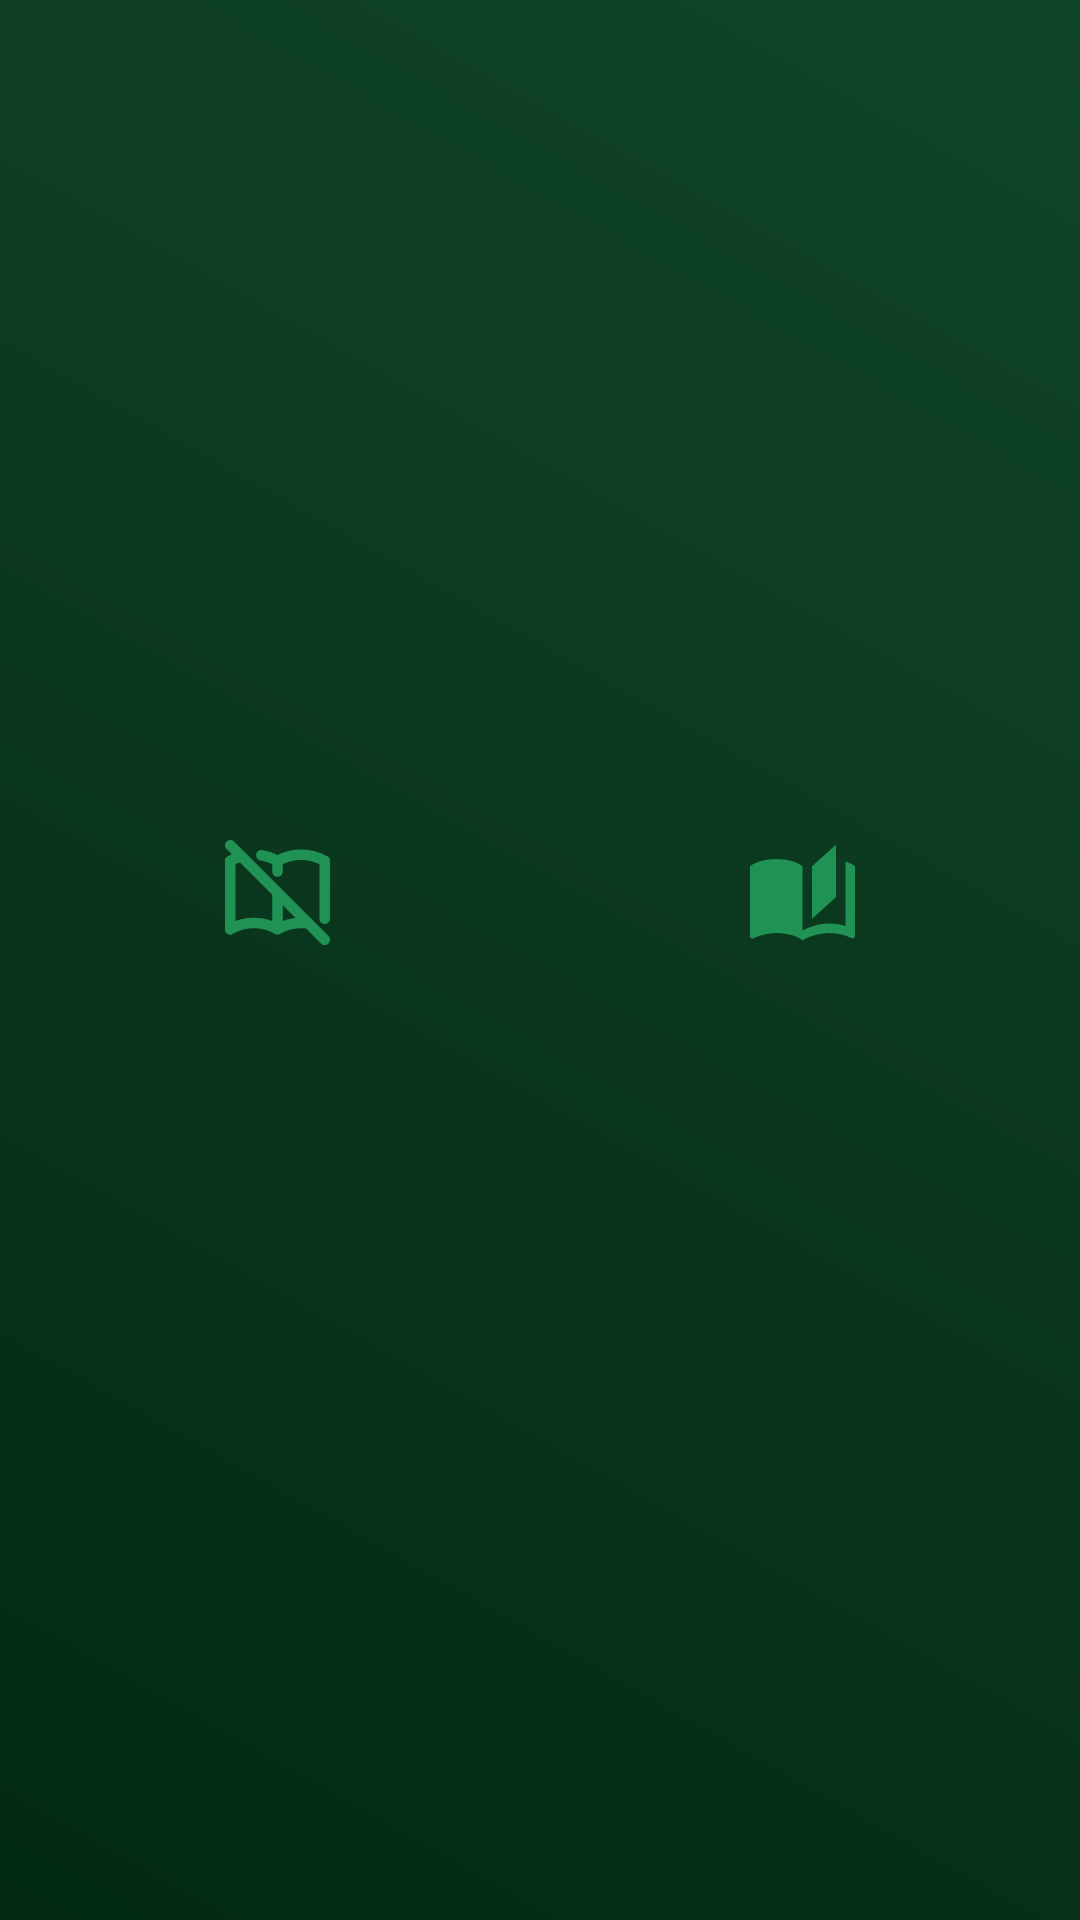

Icon bounding boxes for this 1080px x 1920px phone screenshot, format (x1, y1, x2, y2):
book off: (225, 840, 330, 945)
book open page: (750, 845, 855, 940)
